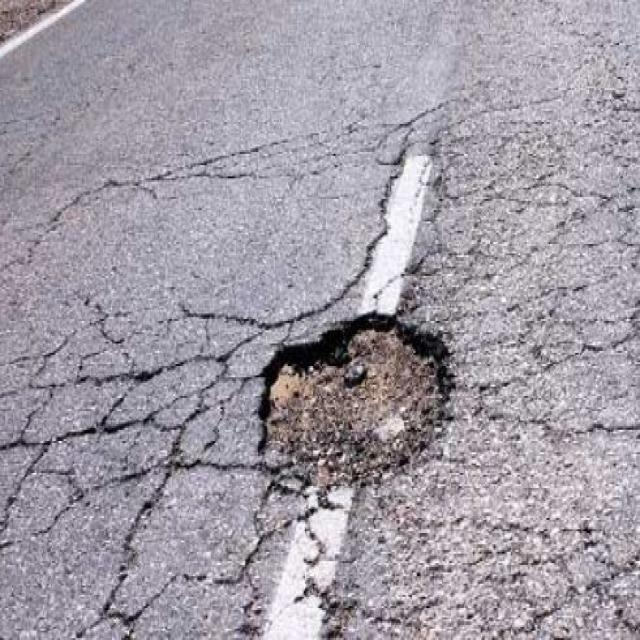Crack: (181, 122, 413, 331), (89, 372, 259, 636), (3, 322, 265, 453), (179, 480, 348, 617), (473, 342, 640, 443), (508, 553, 640, 638), (0, 444, 85, 536), (296, 572, 404, 640), (202, 369, 261, 454)
pothole: (262, 314, 456, 487)
